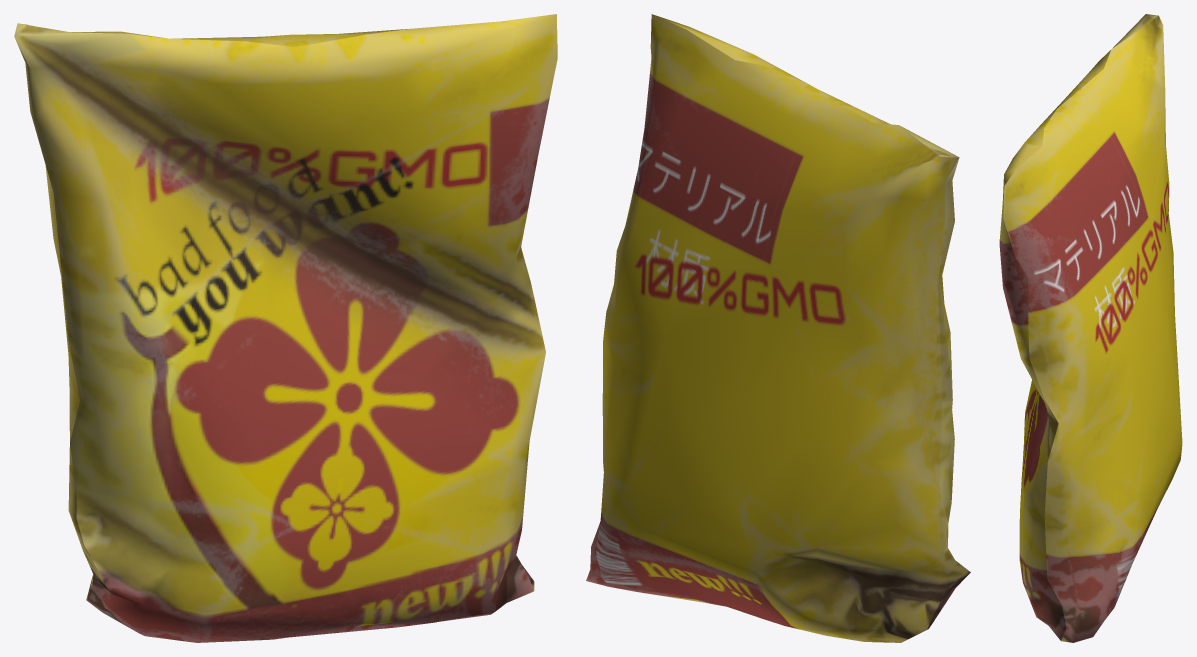
Rendered from uploads_files_2135669_SM_Snack02.FBX.
The picture shows the model from 3 angles, left to right: view 1: azimuth 30°, elevation 25°; view 2: azimuth 150°, elevation 25°; view 3: azimuth 270°, elevation 25°; orthographic projection. The views are drawn at different scales.
Visible parts, largest first — view 1: SM_Snack02; view 2: SM_Snack02; view 3: SM_Snack02.
Boxes of the visible parts, bbox=[...] form: SM_Snack02: bbox=[14, 14, 557, 642]; SM_Snack02: bbox=[586, 14, 970, 642]; SM_Snack02: bbox=[999, 14, 1182, 642].
Bounding box in the file's own units: 14.68 × 18.8 × 6.7.
